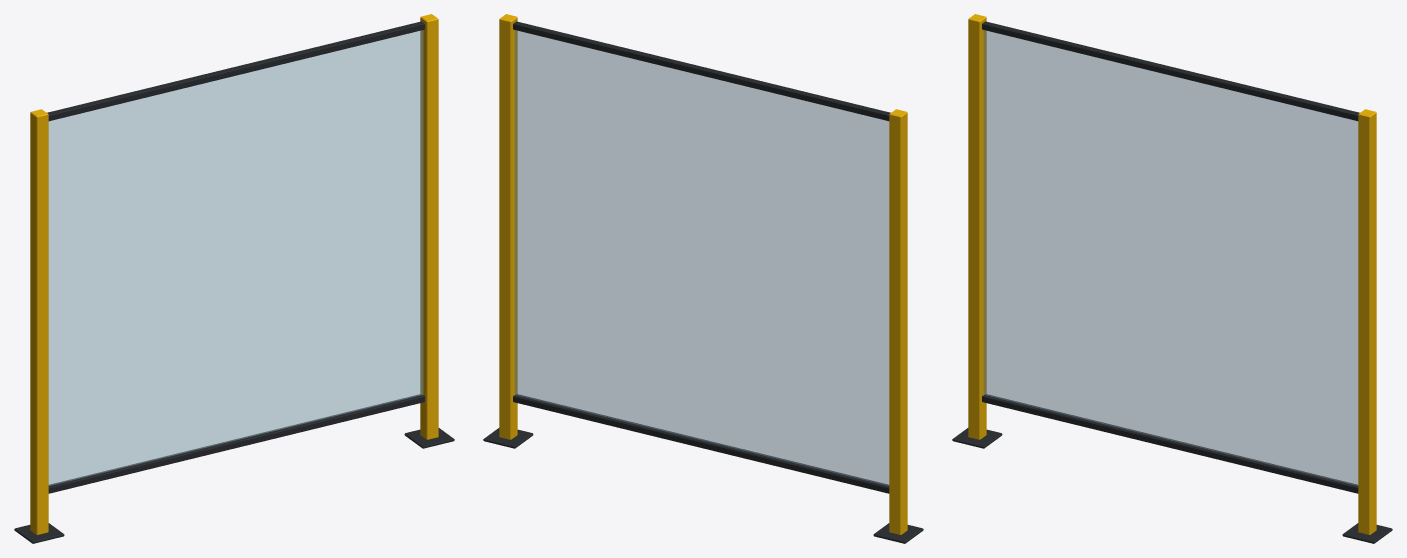
File: safeguard_2m.glb
The picture shows the model from 3 angles, left to right: view 1: azimuth 30°, elevation 25°; view 2: azimuth 150°, elevation 25°; view 3: azimuth 330°, elevation 25°; orthographic projection.
Parts seen in each view (by area): view 1: Safeguard; view 2: Safeguard; view 3: Safeguard.
Part boxes in pixels (x1=…): Safeguard: x1=14, y1=14, x2=454, y2=543; Safeguard: x1=483, y1=14, x2=923, y2=543; Safeguard: x1=952, y1=14, x2=1392, y2=543.
Bounding box in the file's own units: 2.1 × 2 × 0.16.
